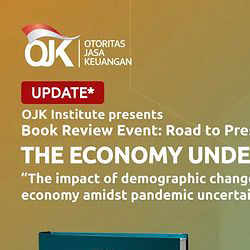ojk: (25, 27, 133, 68)
